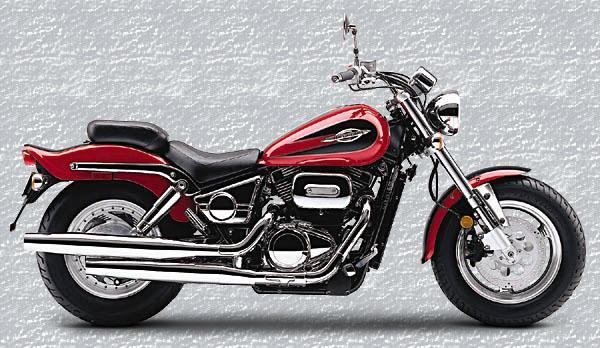motorcycle: (8, 3, 600, 339)
